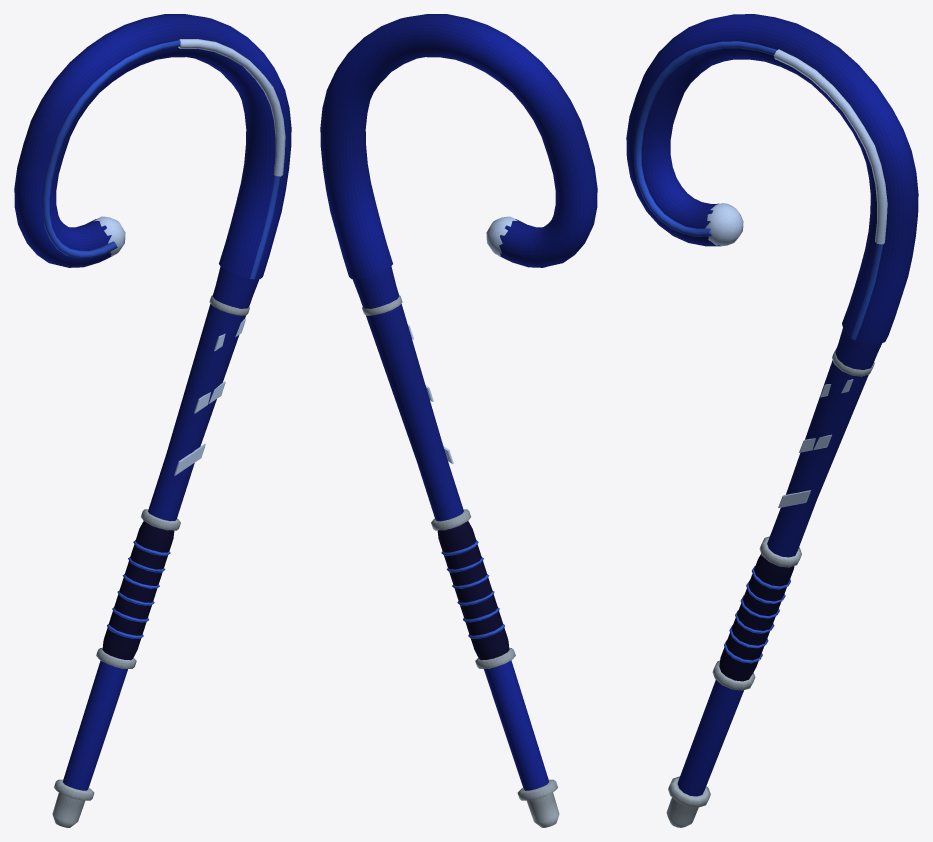
File: cane_of_byrna.glb
The picture shows the model from 3 angles, left to right: view 1: azimuth 30°, elevation 25°; view 2: azimuth 150°, elevation 25°; view 3: azimuth 330°, elevation 25°; orthographic projection. The views are drawn at different scales.
Visible parts, largest first — view 1: Open cobalt Byrna crook, Slender blue Byrna shaft, Midnight blue cane grip, Crook bright blue bevel, Crook white-blue edge inlay, Blue cane end ferrule, Byrna inward silver crook tip; view 2: Open cobalt Byrna crook, Slender blue Byrna shaft, Midnight blue cane grip, Blue cane end ferrule, Byrna inward silver crook tip; view 3: Open cobalt Byrna crook, Slender blue Byrna shaft, Midnight blue cane grip, Crook bright blue bevel, Crook white-blue edge inlay, Byrna inward silver crook tip, Silver Byrna shaft ferrule (×2), Blue cane end ferrule.
Part boxes in pixels (left/top/right/bottom): Open cobalt Byrna crook: left=14, top=14, right=291, bottom=278; Slender blue Byrna shaft: left=63, top=266, right=259, bottom=790; Midnight blue cane grip: left=102, top=521, right=174, bottom=660; Crook bright blue bevel: left=42, top=40, right=280, bottom=279; Crook white-blue edge inlay: left=178, top=39, right=285, bottom=176; Blue cane end ferrule: left=52, top=792, right=84, bottom=827; Byrna inward silver crook tip: left=93, top=216, right=125, bottom=256; Open cobalt Byrna crook: left=320, top=14, right=597, bottom=278; Slender blue Byrna shaft: left=352, top=266, right=548, bottom=790; Midnight blue cane grip: left=437, top=521, right=509, bottom=660; Blue cane end ferrule: left=527, top=792, right=559, bottom=827; Byrna inward silver crook tip: left=486, top=216, right=517, bottom=256; Open cobalt Byrna crook: left=626, top=14, right=918, bottom=344; Slender blue Byrna shaft: left=677, top=328, right=882, bottom=796; Midnight blue cane grip: left=719, top=554, right=794, bottom=681; Crook bright blue bevel: left=634, top=41, right=883, bottom=340; Crook white-blue edge inlay: left=773, top=49, right=887, bottom=244; Byrna inward silver crook tip: left=705, top=203, right=743, bottom=246; Silver Byrna shaft ferrule (×2): left=668, top=536, right=801, bottom=807; Blue cane end ferrule: left=666, top=797, right=698, bottom=827.
Size of the model in its own units: 27.09 by 75.23 by 4.47.
5 materials, 5 textured.
